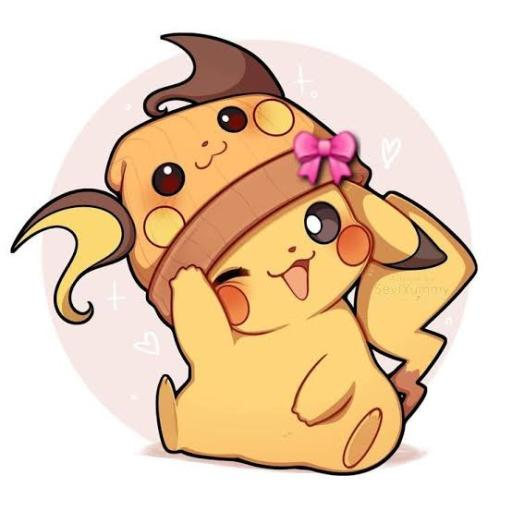Pikachu: (155, 176, 478, 476)
